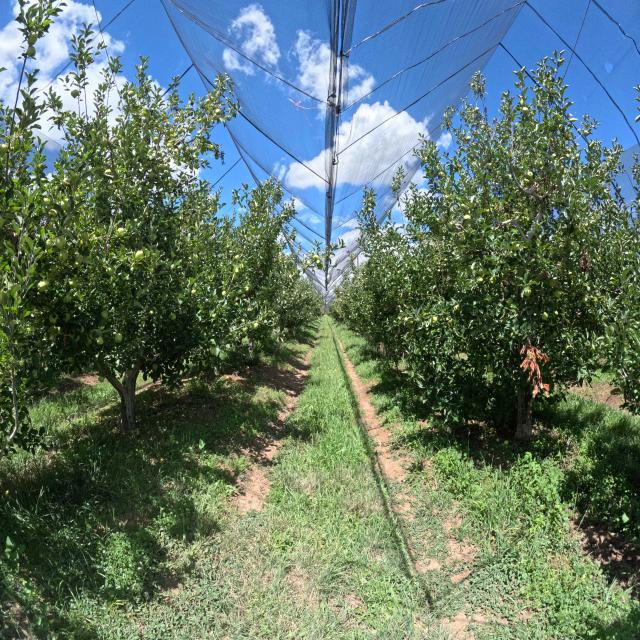-FireBlight-: (518, 344, 551, 399)
